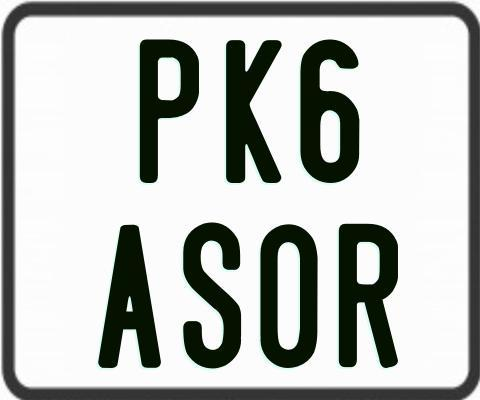0: (258, 224, 318, 374)
6: (298, 38, 357, 184)
A: (98, 223, 164, 367)
K: (223, 38, 279, 182)
P: (140, 39, 201, 183)
R: (337, 224, 400, 372)
S: (182, 221, 243, 367)
